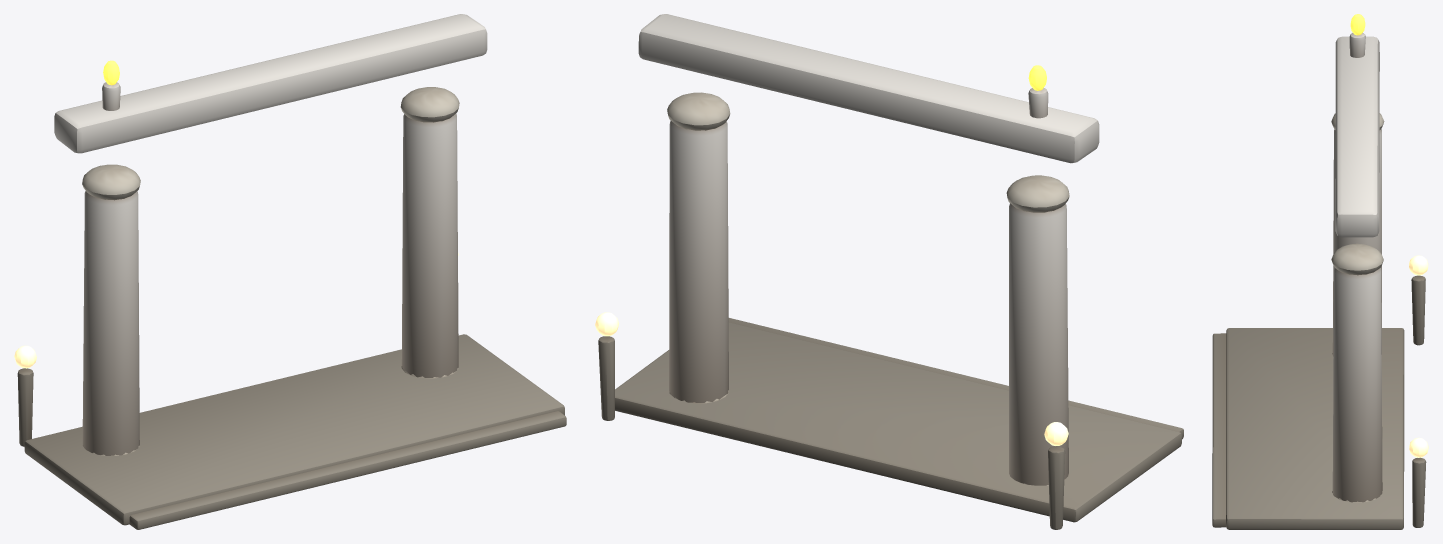
The picture shows the model from 3 angles, left to right: view 1: azimuth 30°, elevation 25°; view 2: azimuth 150°, elevation 25°; view 3: azimuth 270°, elevation 25°; orthographic projection. The views are drawn at different scales.
Visible parts, largest first — view 1: gate_5ec82823; view 2: gate_5ec82823; view 3: gate_5ec82823.
Part boxes in pixels (x1,y1,x2,y2): gate_5ec82823: (14,14,566,529); gate_5ec82823: (595,14,1183,529); gate_5ec82823: (1212,14,1428,529).
Size of the model in its own units: 5.35 by 4.59 by 2.55.
